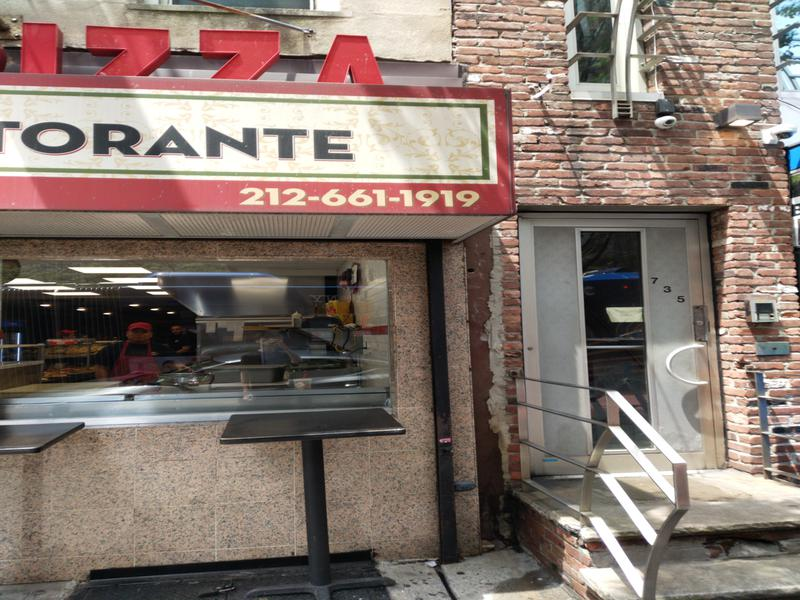door: (517, 202, 740, 479)
